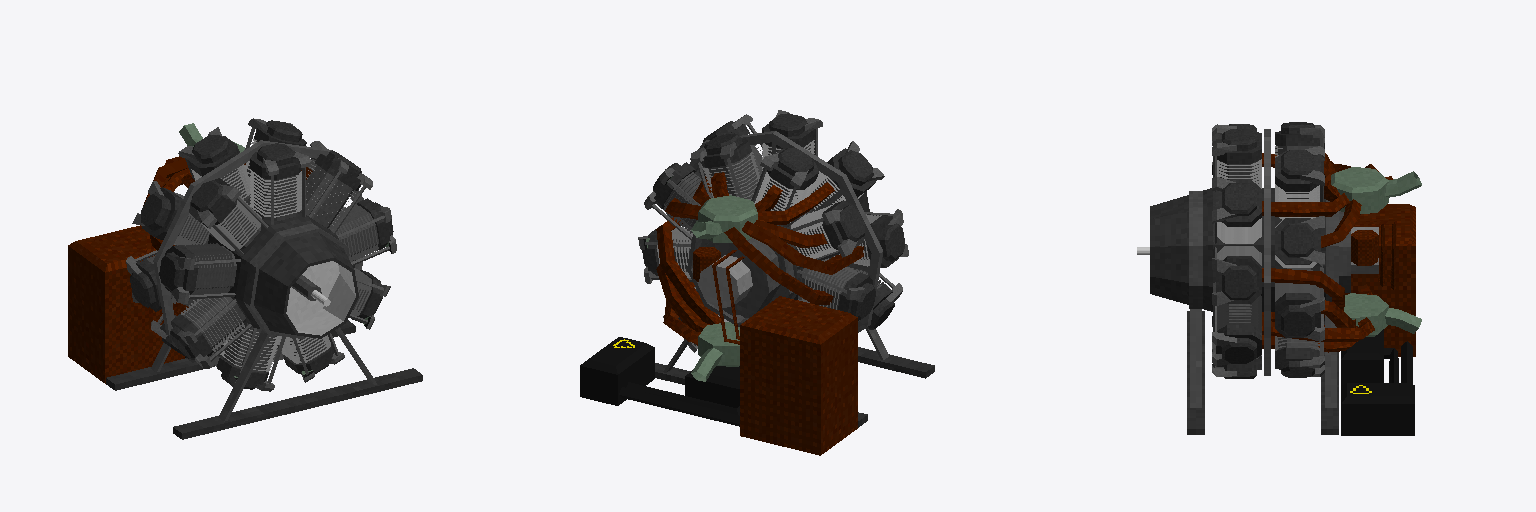
The picture shows the model from 3 angles: view 1: azimuth 30°, elevation 25°; view 2: azimuth 150°, elevation 25°; view 3: azimuth 270°, elevation 25°; orthographic projection.
Visible parts, largest first — view 1: Body_Cylinder.001; view 2: Body_Cylinder.001; view 3: Body_Cylinder.001.
Boxes of the visible parts, <box> form: Body_Cylinder.001: <box>68,118,422,439</box>; Body_Cylinder.001: <box>580,110,934,455</box>; Body_Cylinder.001: <box>1150,122,1421,435</box>.
Size of the model in its own units: 3 by 2.88 by 3.08.
2 materials, 1 textured.